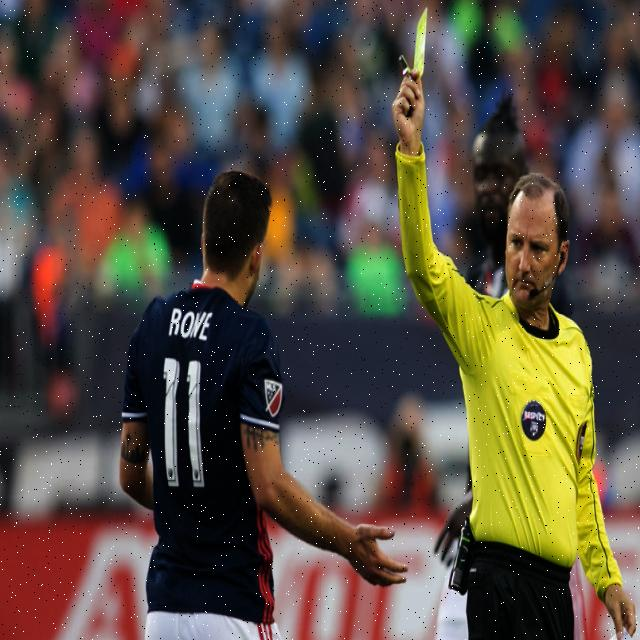yellow-card: (392, 4, 442, 210)
